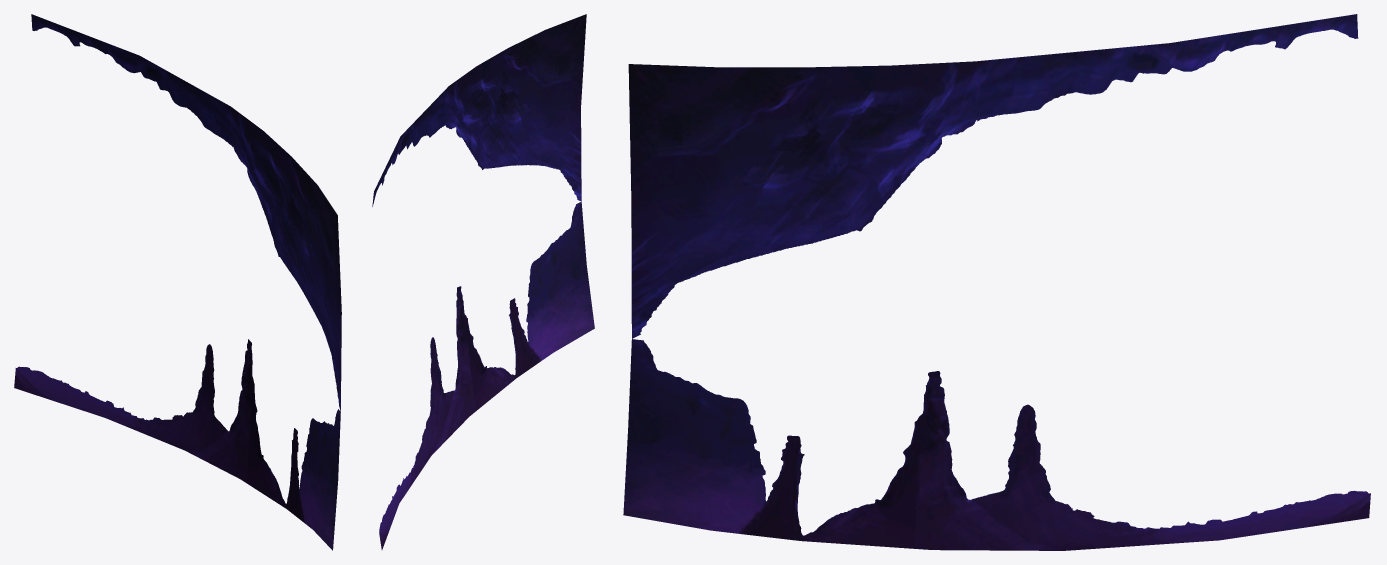
The model's file is SWORDLIGHT20_PS-AREA05-RANGE01_03.fbx.
3 views of the same model, side by side, from view 1: azimuth 30°, elevation 25°; view 2: azimuth 150°, elevation 25°; view 3: azimuth 270°, elevation 25° (orthographic). The views are drawn at different scales.
Visible parts, largest first — view 1: SWORDLIGHT20_PS-AREA05-RANGE01_03; view 2: SWORDLIGHT20_PS-AREA05-RANGE01_03; view 3: SWORDLIGHT20_PS-AREA05-RANGE01_03.
Part boxes in pixels (left/top/right/bottom): SWORDLIGHT20_PS-AREA05-RANGE01_03: left=14, top=14, right=341, bottom=550; SWORDLIGHT20_PS-AREA05-RANGE01_03: left=372, top=14, right=594, bottom=549; SWORDLIGHT20_PS-AREA05-RANGE01_03: left=623, top=14, right=1370, bottom=550.
Size of the model in its own units: 47818 by 213175 by 282327.
5 materials, 5 textured.
